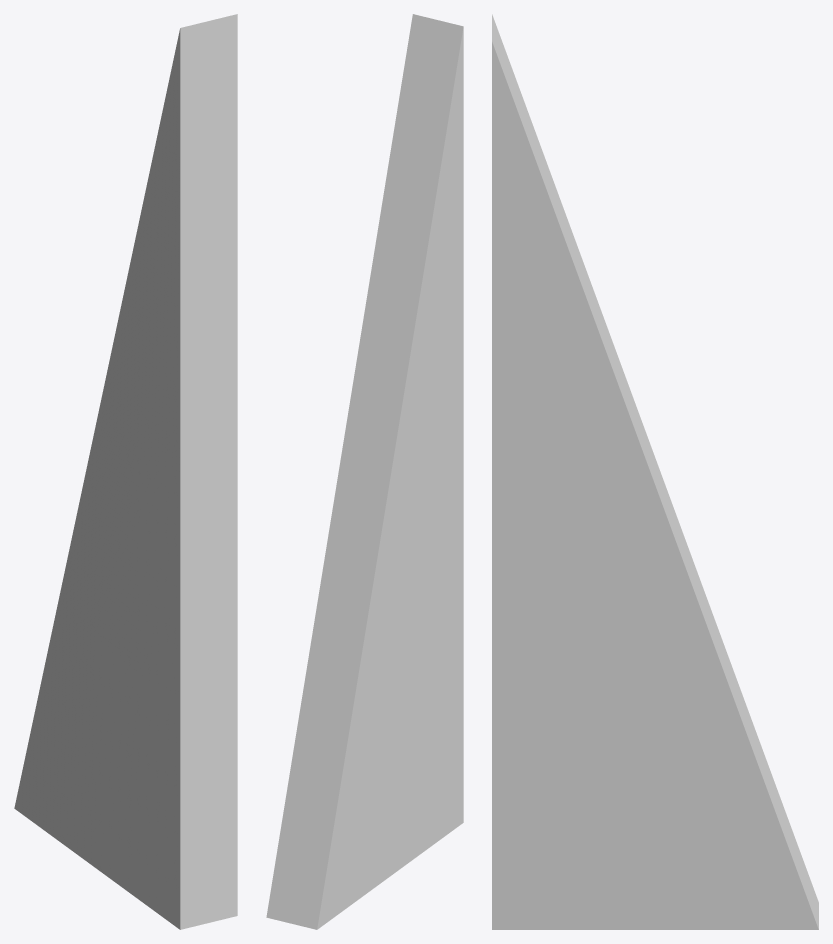
Rendered from BaoPian_FG_TB_SanJiaoR_1X3_on.FBX.
The picture shows the model from 3 angles, left to right: view 1: azimuth 30°, elevation 25°; view 2: azimuth 150°, elevation 25°; view 3: azimuth 270°, elevation 25°; orthographic projection. The views are drawn at different scales.
Visible parts, largest first — view 1: Box002; view 2: Box002; view 3: Box002.
Part boxes in pixels (left/top/right/bottom): Box002: left=14, top=14, right=237, bottom=929; Box002: left=266, top=14, right=463, bottom=929; Box002: left=492, top=14, right=818, bottom=929.
Bounding box in the file's own units: 0.2 × 3 × 1.
